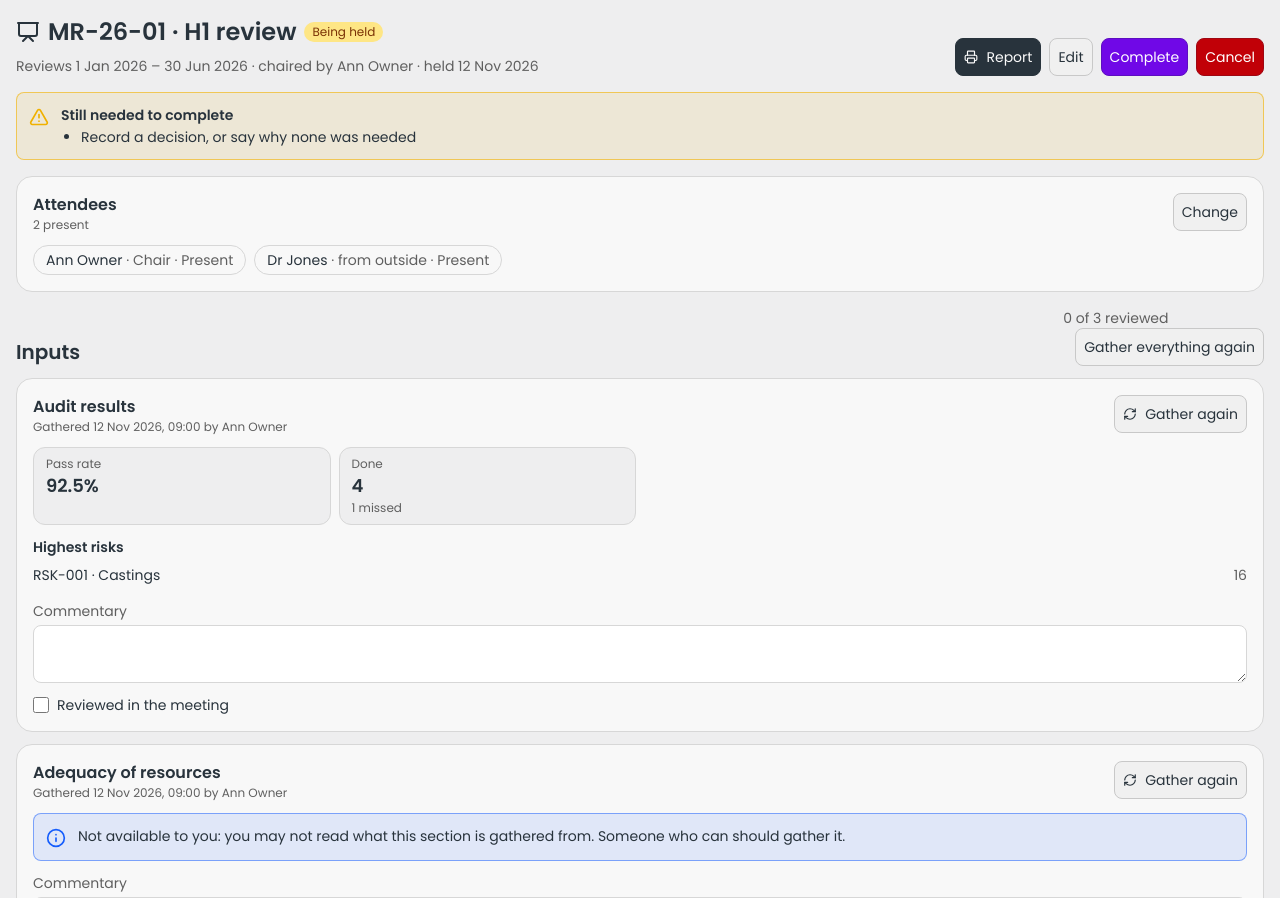
Test: management reviews › shows each gathered section in words, says when one is not available, and ticks a section reviewed at once
Expected: the text "92.5%" is shown, [46,473,99,498]
Expected: the text "1 missed" is shown, [352,499,402,516]
Step 1. Click the checkbox labelled "Reviewed in the meeting" → (41, 705), box [33,697,49,713]
(page scrolled)
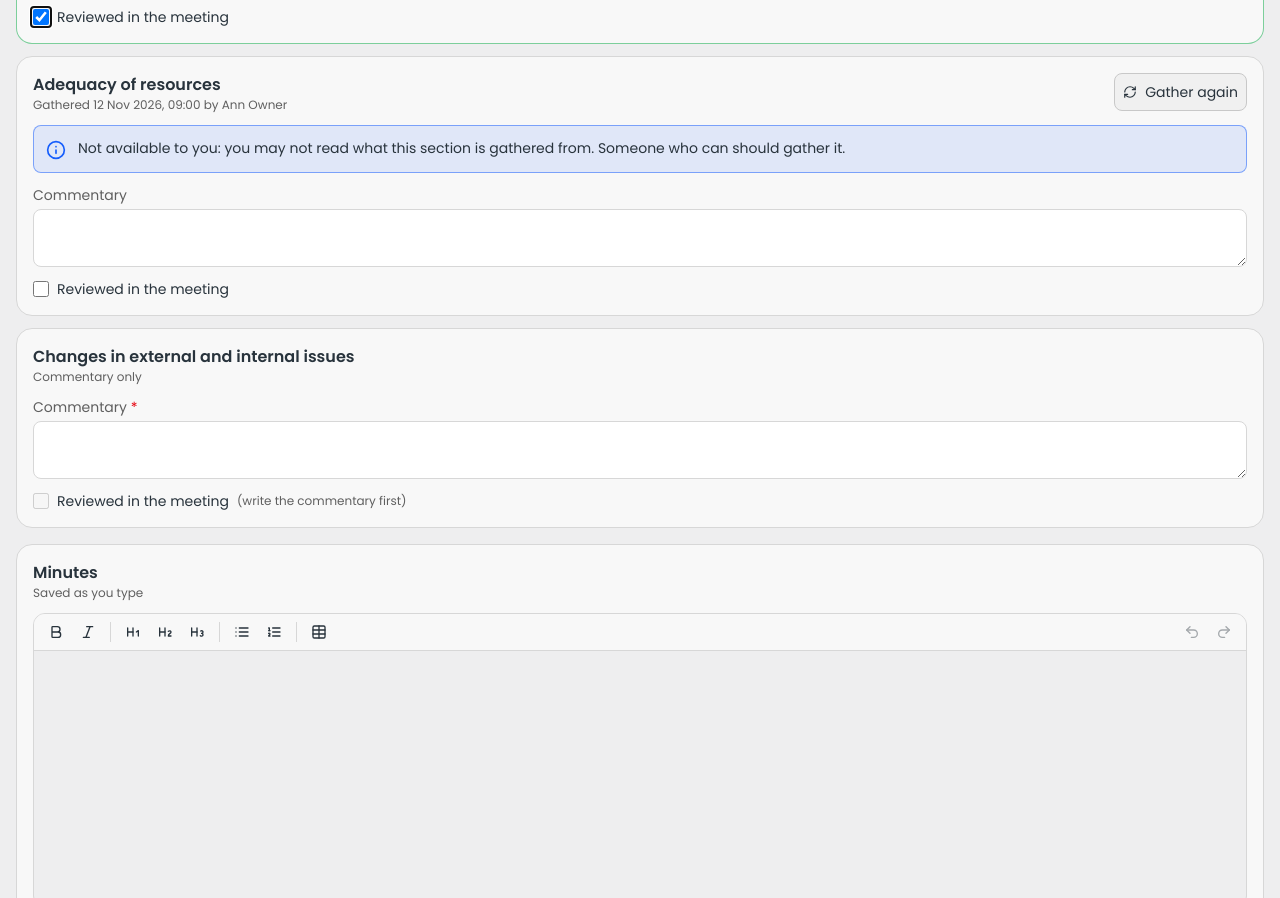
Expected: the checkbox labelled "Reviewed in the meeting (write the commentary first)" is disabled, [33,493,49,509]
Step 2. Type "New customer in aerospace" into the text box labelled "Commentary" below "Commentary only" → (640, 450), box [33,421,1247,479]
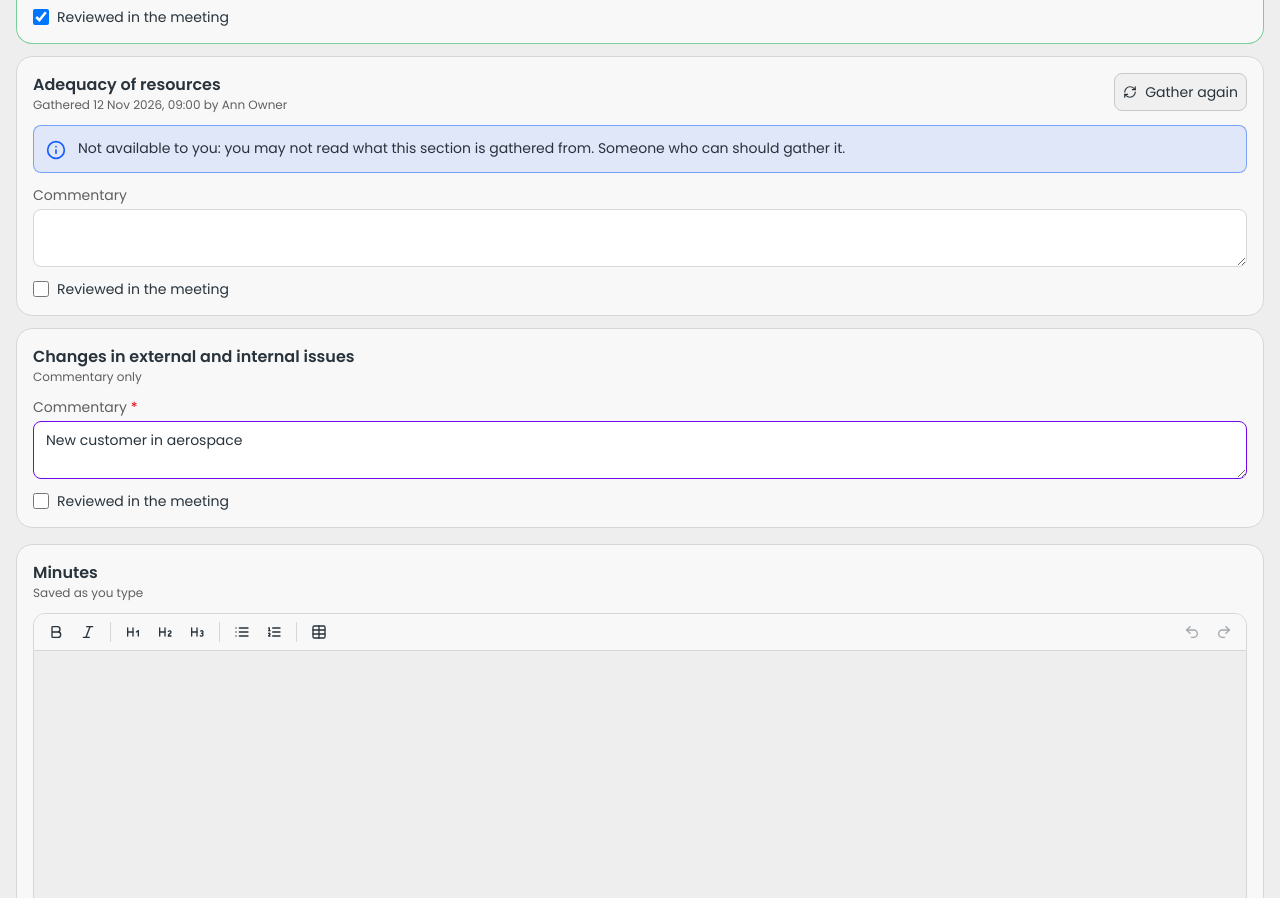
Result: the checkbox labelled "Reviewed in the meeting" below "Commentary only" is enabled at [33,493,49,509]
